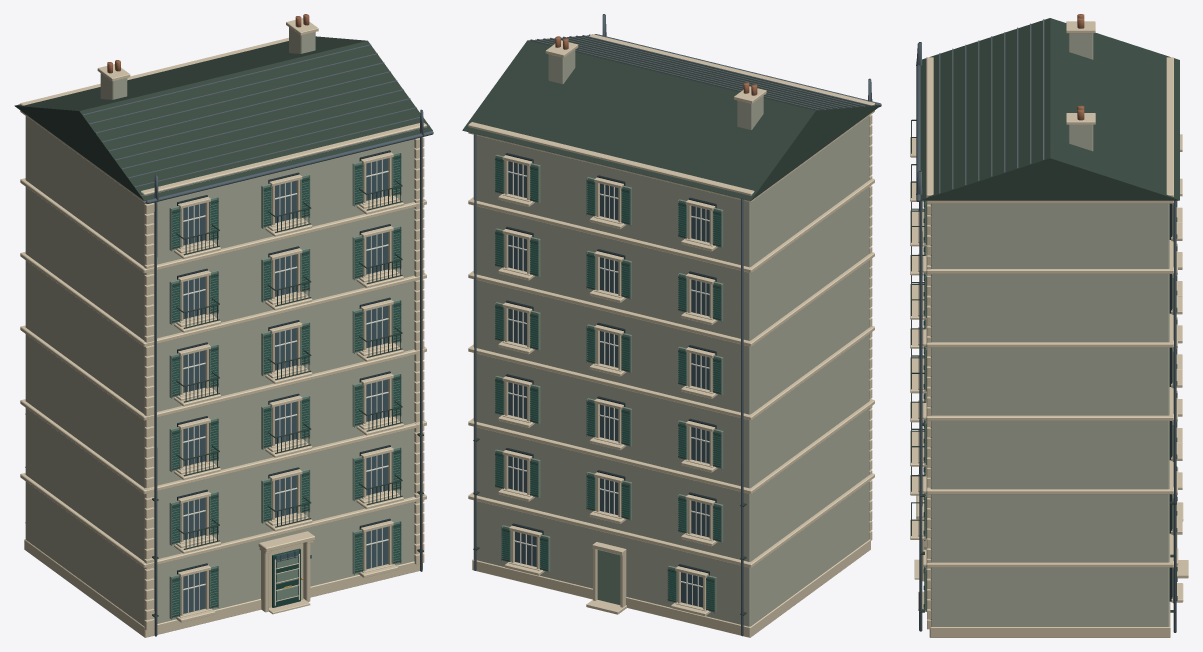
Rendered from apartment_five.glb.
3 views of the same model, side by side, from view 1: azimuth 30°, elevation 25°; view 2: azimuth 150°, elevation 25°; view 3: azimuth 270°, elevation 25° (orthographic).
Parts seen in each view (by area): view 1: Building_masonry, Pitched_slate_roof, Stone_plinth, Continuous_cornice.006, Continuous_cornice, Continuous_cornice.003, Continuous_cornice.002, Continuous_cornice.001, Continuous_cornice.004, Rainwater_downpipe, Zinc_gutter, Rainwater_downpipe.001 (+19 smaller); view 2: Building_masonry, Pitched_slate_roof, Stone_plinth, Continuous_cornice.006, Continuous_cornice.002, Continuous_cornice.003, Continuous_cornice.001, Continuous_cornice, Continuous_cornice.004, Rear_downpipe, Rear_downpipe.001, Garden_entry_door (+10 smaller); view 3: Building_masonry, Pitched_slate_roof, Stone_plinth, Continuous_cornice.006, Rainwater_downpipe.001, Rear_downpipe.001, Continuous_cornice.001, Continuous_cornice.003, Continuous_cornice.002, Continuous_cornice, Continuous_cornice.004, Continuous_cornice.005 (+3 smaller).
Part boxes in pixels (x1,y1,x2,y2): Building_masonry: (25, 116, 415, 625); Pitched_slate_roof: (14, 36, 432, 201); Stone_plinth: (24, 539, 422, 637); Continuous_cornice.006: (20, 37, 426, 195); Continuous_cornice: (20, 473, 426, 567); Continuous_cornice.003: (20, 251, 426, 346); Continuous_cornice.002: (20, 325, 426, 420); Continuous_cornice.001: (20, 399, 426, 494); Continuous_cornice.004: (20, 178, 426, 273); Rainwater_downpipe: (154, 174, 158, 636); Zinc_gutter: (145, 131, 433, 203); Rainwater_downpipe.001: (420, 109, 424, 571); Building_masonry: (473, 116, 869, 626); Pitched_slate_roof: (462, 35, 880, 200); Stone_plinth: (472, 539, 870, 637); Continuous_cornice.006: (468, 34, 874, 195); Continuous_cornice.002: (468, 326, 874, 420); Continuous_cornice.003: (468, 252, 874, 346); Continuous_cornice.001: (468, 399, 874, 494); Continuous_cornice: (468, 473, 874, 567); Continuous_cornice.004: (468, 178, 874, 272); Rear_downpipe: (741, 199, 743, 636); Rear_downpipe.001: (474, 133, 476, 570); Garden_entry_door: (597, 549, 620, 604); Building_masonry: (930, 203, 1169, 626); Pitched_slate_roof: (920, 18, 1179, 200); Stone_plinth: (929, 601, 1170, 637); Continuous_cornice.006: (926, 57, 1173, 196); Rainwater_downpipe.001: (916, 171, 922, 631); Rear_downpipe.001: (1173, 200, 1176, 632); Continuous_cornice.001: (926, 460, 1173, 494); Continuous_cornice.003: (926, 313, 1173, 347); Continuous_cornice.002: (926, 387, 1173, 420); Continuous_cornice: (926, 533, 1173, 567); Continuous_cornice.004: (926, 240, 1173, 273); Continuous_cornice.005: (926, 200, 1173, 203).
Size of the model in its own units: 12.5 by 21.1 by 10.49.
